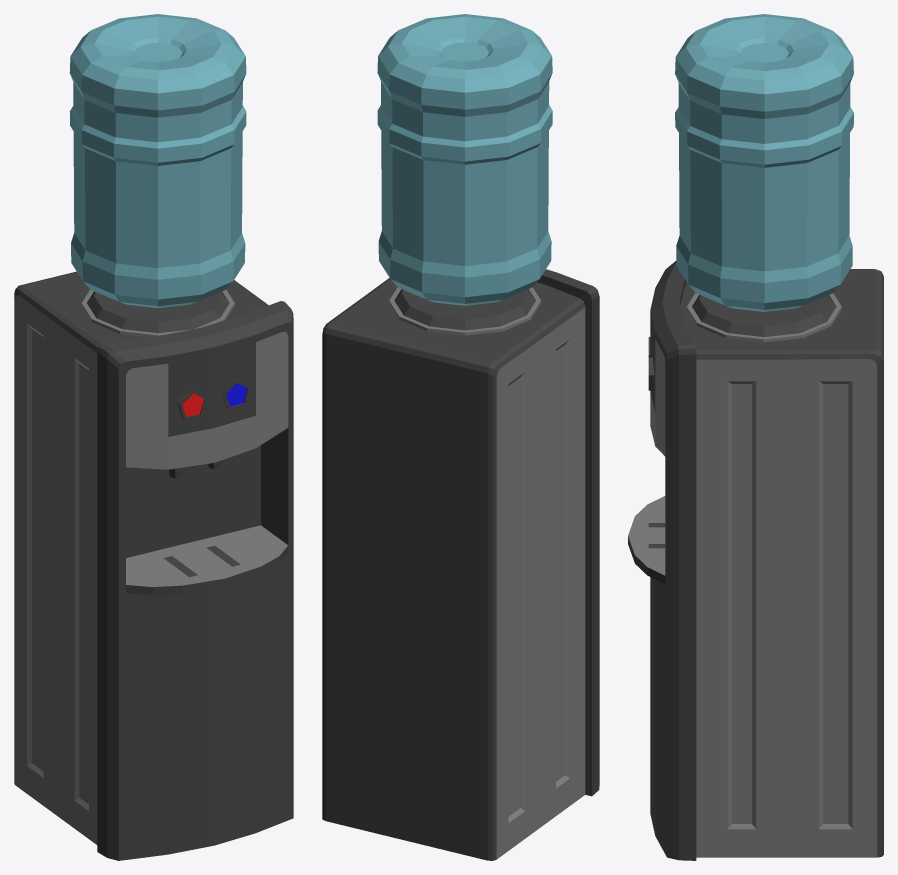
Rendered from Int_TechWaterCooler01.fbx.
The picture shows the model from 3 angles, left to right: view 1: azimuth 30°, elevation 25°; view 2: azimuth 150°, elevation 25°; view 3: azimuth 270°, elevation 25°; orthographic projection. The views are drawn at different scales.
Parts seen in each view (by area): view 1: Int_TechWaterCooler01; view 2: Int_TechWaterCooler01; view 3: Int_TechWaterCooler01.
Boxes of the visible parts, x1,y1,x2,y2 form: Int_TechWaterCooler01: (14, 14, 293, 860); Int_TechWaterCooler01: (322, 14, 599, 860); Int_TechWaterCooler01: (628, 14, 883, 860).
Size of what is drawn, in the model's own units: 51.71 by 59.99 by 199.
